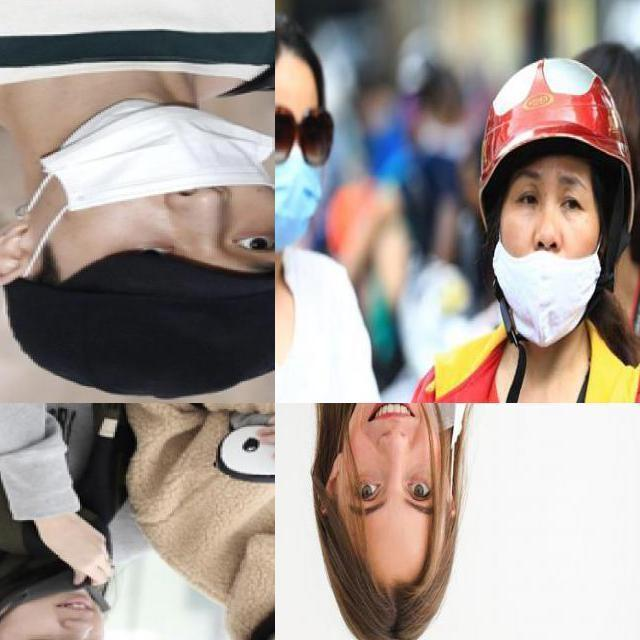hairnet: (65, 104, 271, 222), (493, 218, 602, 343), (4, 569, 105, 631)
